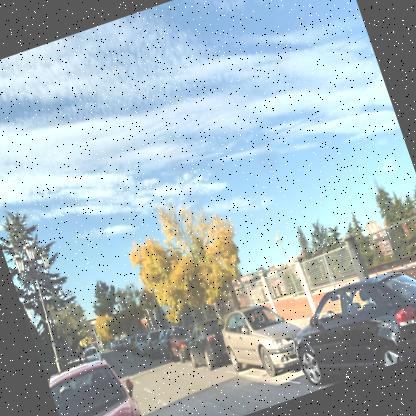Car: (281, 256, 415, 393), (218, 292, 318, 390), (46, 352, 154, 415), (178, 310, 239, 376), (127, 326, 171, 368), (164, 322, 202, 367), (83, 347, 104, 367)
